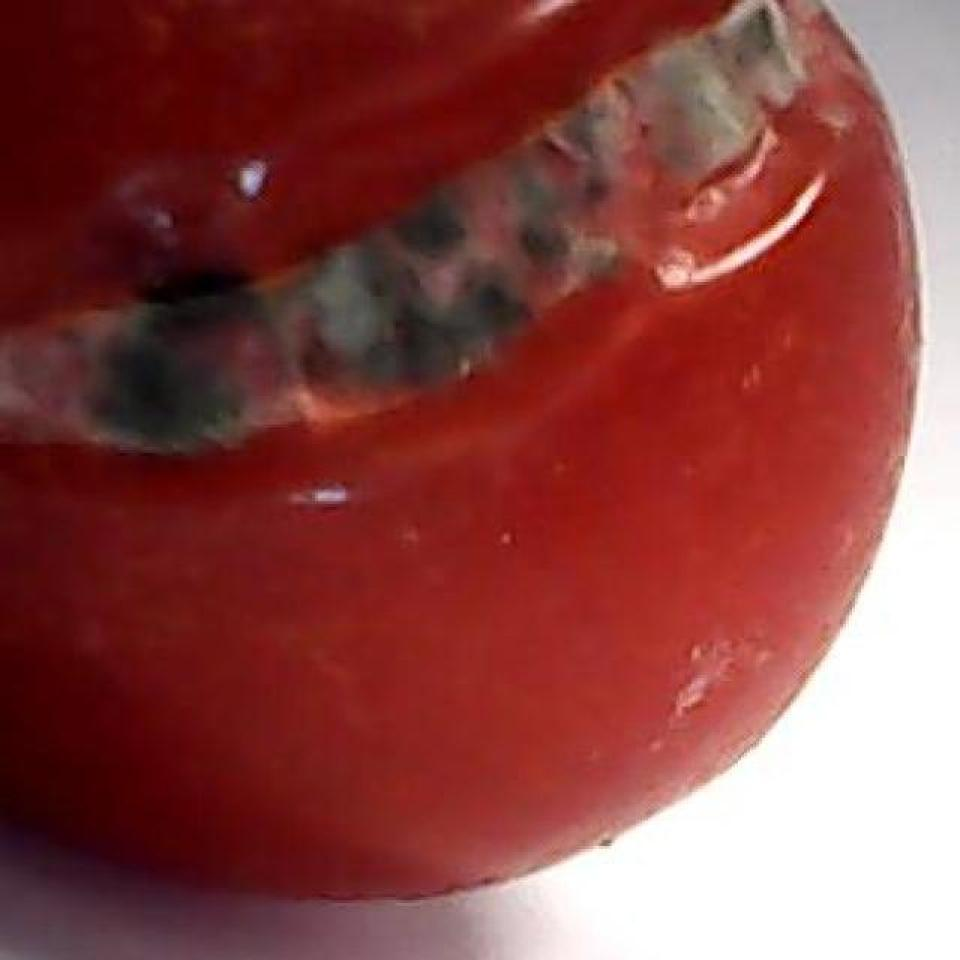Cracking: (0, 0, 876, 474)
